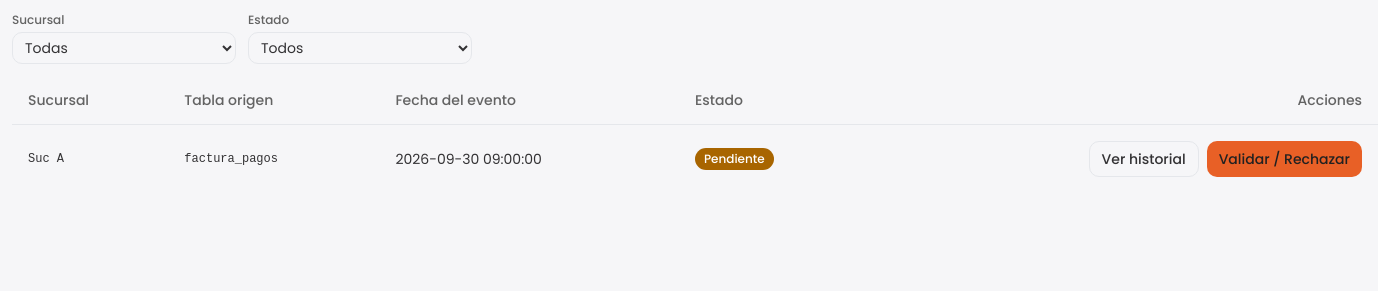
Test: ValidacionEventos › T2: "Ver historial" expands the single-transition WorkflowChain
The width and height of the screenshot is (1378, 291).
Click the button with test id "validacion-eventos-ver-historial-aaaaaaaa-0000-0000-0000-000000000001".
click(1144, 158)  # box [1089,140,1199,176]
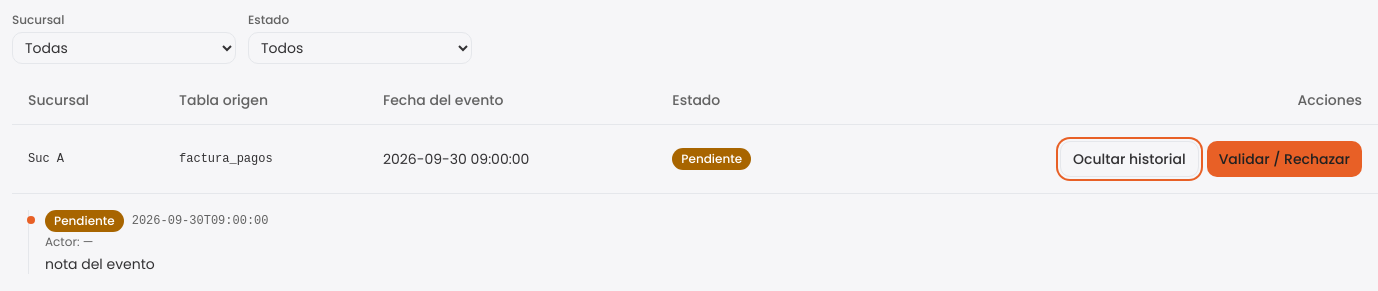
Expected: the list with test id "workflow-chain" is shown, [28,210,1362,274]
Expected: the list item with test id "workflow-chain-item-aaaaaaaa-0000-0000-0000-000000000001" shows "nota del evento", [45,254,155,274]
